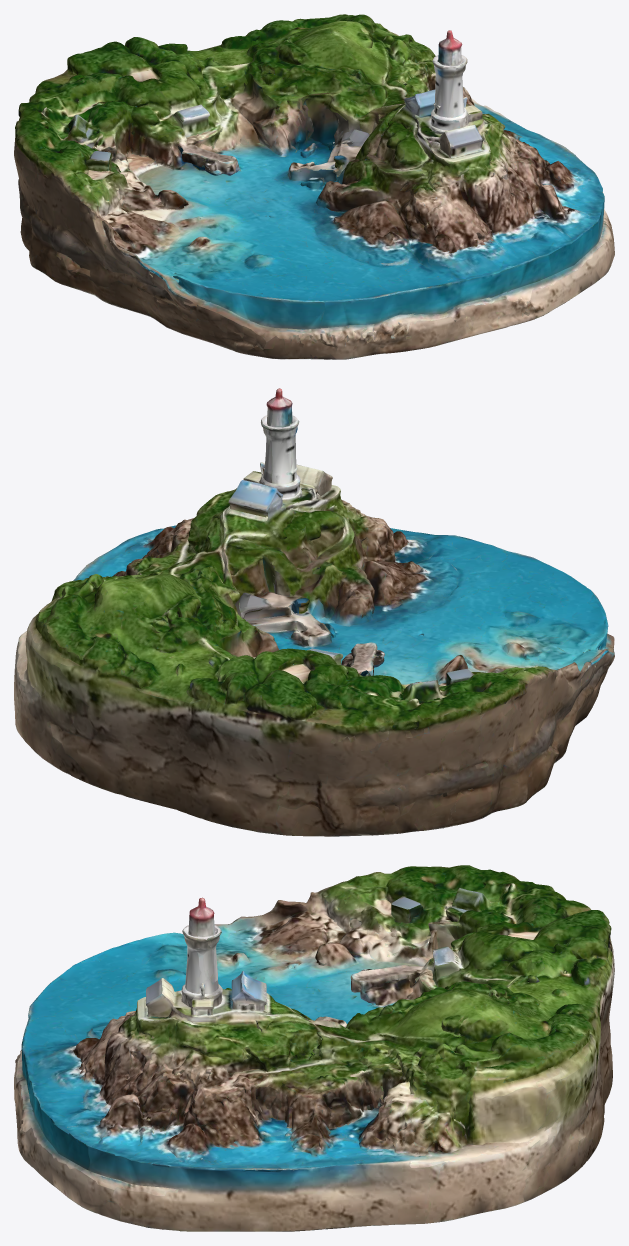
The model's file is huaniao.min.glb.
3 renders of one model, top to bottom at view 1: azimuth 30°, elevation 25°; view 2: azimuth 150°, elevation 25°; view 3: azimuth 270°, elevation 25°, orthographic. The views are drawn at different scales.
Parts seen in each view (by area): view 1: geometry_0; view 2: geometry_0; view 3: geometry_0.
Part boxes in pixels (x1=…): geometry_0: x1=14, y1=14, x2=614, y2=359; geometry_0: x1=14, y1=388, x2=614, y2=836; geometry_0: x1=14, y1=865, x2=614, y2=1231.
Size of the model in its own units: 0.5999 by 0.2807 by 0.6007.
1 material, 1 textured.
